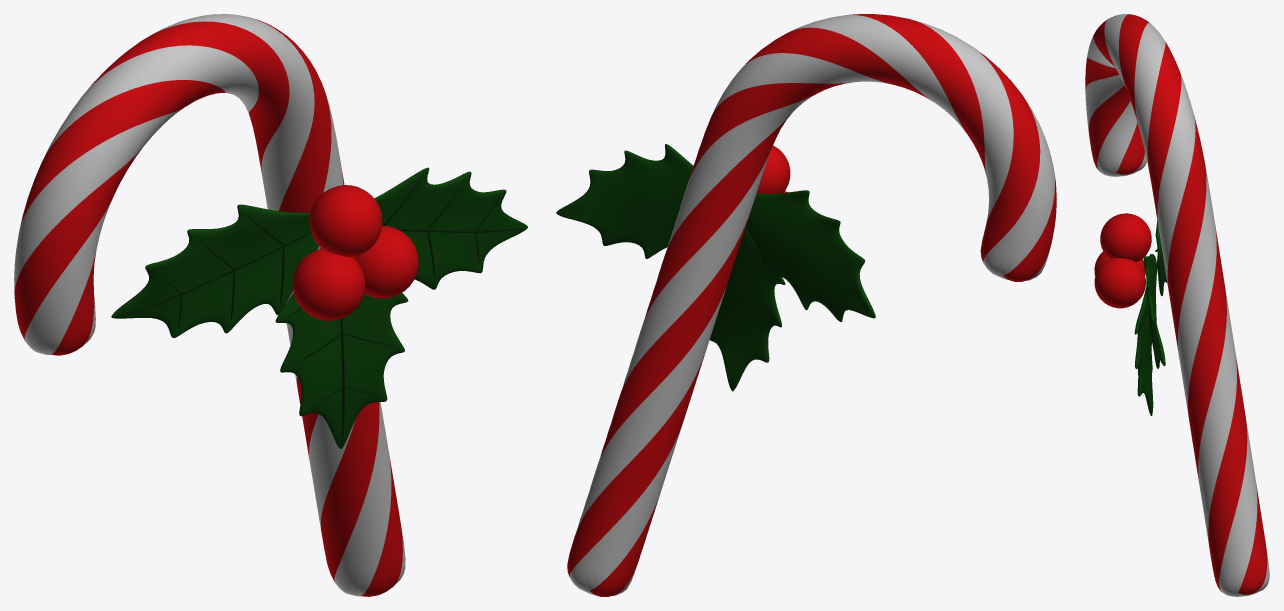
Rendered from candy cane 1.obj.
3 renders of one model, left to right at view 1: azimuth 30°, elevation 25°; view 2: azimuth 150°, elevation 25°; view 3: azimuth 270°, elevation 25°, orthographic. The views are drawn at different scales.
Visible parts, largest first — view 1: Circle_Circle.001, Plane.011, Plane.006_Plane.021, Plane.019_Plane.025, Sphere.008, Sphere.015, Sphere.009; view 2: Circle_Circle.001, Plane.011, Plane.019_Plane.025, Plane.006_Plane.021, Sphere.008; view 3: Circle_Circle.001, Sphere.009, Sphere.008, Plane.006_Plane.021, Plane.019_Plane.025, Plane.011.
Part boxes in pixels (x1,y1,x2,y2): Circle_Circle.001: (14,14,405,596); Plane.011: (111,204,318,337); Plane.006_Plane.021: (275,248,408,448); Plane.019_Plane.025: (374,167,527,289); Sphere.008: (309,185,382,257); Sphere.015: (292,249,365,320); Sphere.009: (353,226,418,298); Circle_Circle.001: (567,14,1056,596); Plane.011: (745,190,875,321); Plane.019_Plane.025: (556,144,693,258); Plane.006_Plane.021: (709,228,785,391); Sphere.008: (756,145,790,193); Circle_Circle.001: (1085,14,1269,596); Sphere.009: (1094,258,1145,308); Sphere.008: (1100,213,1151,262); Plane.006_Plane.021: (1134,287,1153,415); Plane.019_Plane.025: (1143,254,1165,368); Plane.011: (1155,221,1167,295).
Size of the model in its own units: 2.38 by 2.84 by 0.988.
